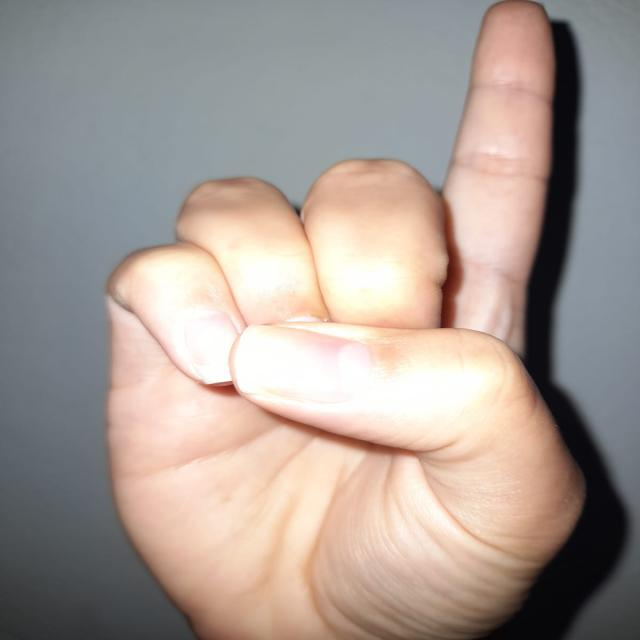D2: (14, 2, 622, 638)
